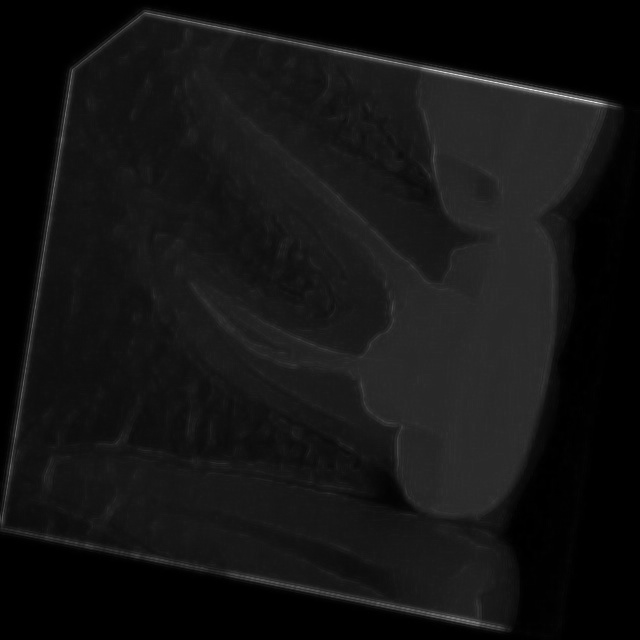Class 1- complete endodontic treatment: (63, 51, 600, 531)
cavity: (14, 410, 528, 630)
